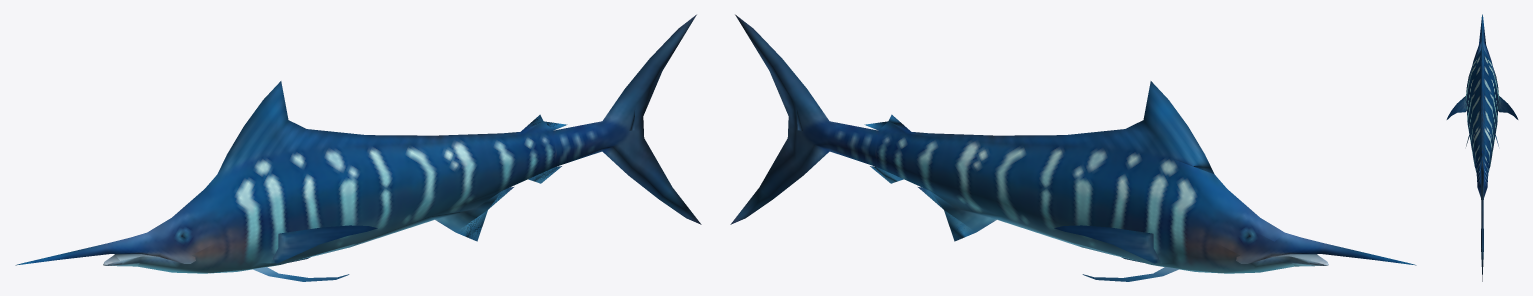
Rendered from f20_qiyu.FBX.
The picture shows the model from 3 angles, left to right: view 1: azimuth 30°, elevation 25°; view 2: azimuth 150°, elevation 25°; view 3: azimuth 270°, elevation 25°; orthographic projection. The views are drawn at different scales.
Visible parts, largest first — view 1: f20_qiyu; view 2: f20_qiyu; view 3: f20_qiyu.
Boxes of the visible parts, x1=… form: f20_qiyu: x1=15, y1=14, x2=701, y2=281; f20_qiyu: x1=730, y1=14, x2=1416, y2=281; f20_qiyu: x1=1446, y1=14, x2=1518, y2=281.
Bounding box in the file's own units: 152 × 52.21 × 23.87.
Materials: 1 (1 with a texture image).
